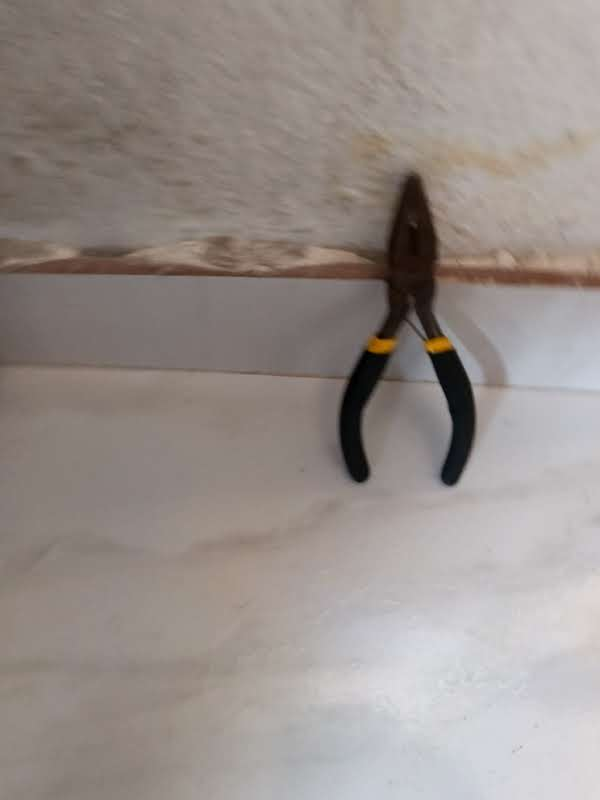Pinzas: (341, 171, 475, 485)
